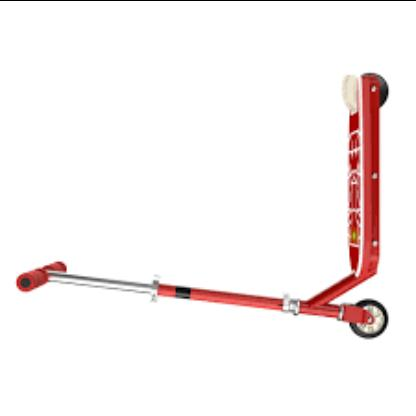bike: (0, 72, 395, 340)
